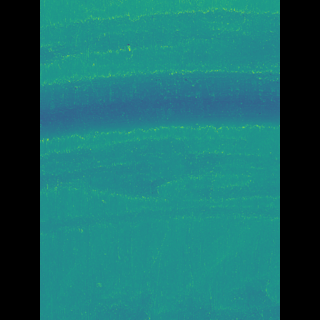Loch: (70, 69, 251, 139), (69, 7, 251, 59)
